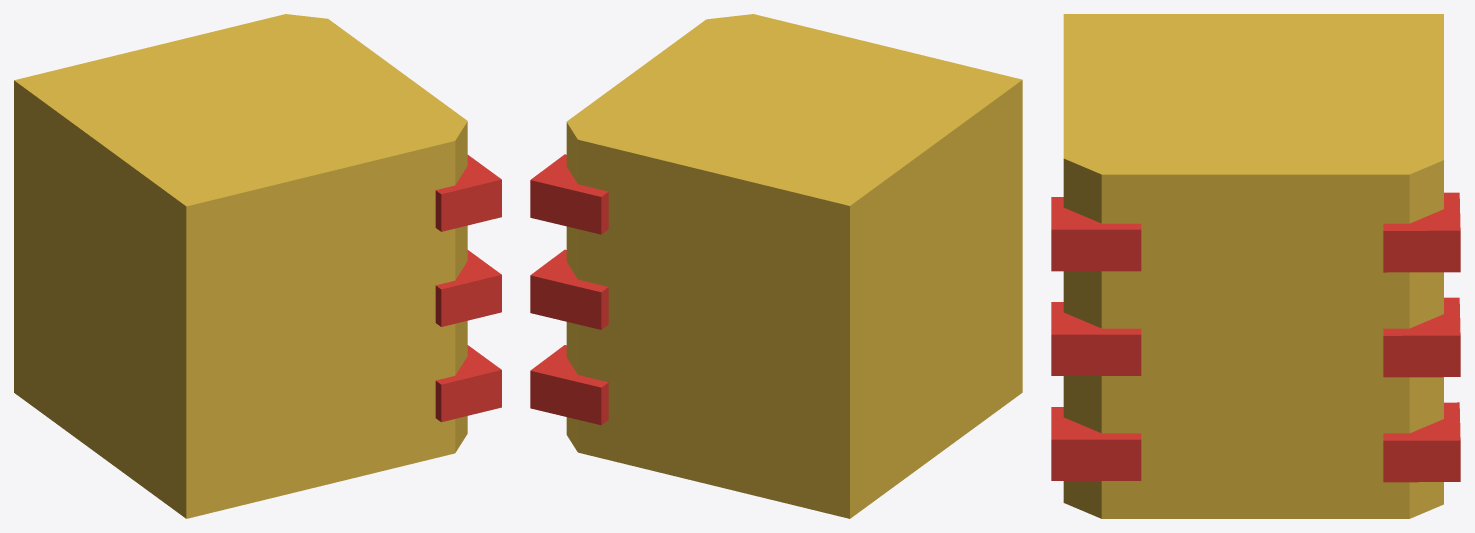
File: 1Left Connect yellowred.fbx
The picture shows the model from 3 angles, left to right: view 1: azimuth 30°, elevation 25°; view 2: azimuth 150°, elevation 25°; view 3: azimuth 270°, elevation 25°; orthographic projection. The views are drawn at different scales.
Visible parts, largest first — view 1: pCube6, pCube3, pCube4, pCube5; view 2: pCube6, pCube7, pCube8, pCube9; view 3: pCube6, pCube3, pCube5, pCube4, pCube8, pCube7, pCube9.
Part boxes in pixels (bbox=[...]): pCube6: bbox=[14, 14, 467, 518]; pCube3: bbox=[435, 155, 501, 231]; pCube4: bbox=[435, 250, 501, 326]; pCube5: bbox=[435, 345, 501, 422]; pCube6: bbox=[566, 14, 1022, 518]; pCube7: bbox=[530, 249, 608, 329]; pCube8: bbox=[530, 154, 608, 234]; pCube9: bbox=[530, 345, 608, 425]; pCube6: bbox=[1063, 14, 1443, 518]; pCube3: bbox=[1051, 197, 1141, 271]; pCube5: bbox=[1051, 407, 1141, 480]; pCube4: bbox=[1051, 302, 1141, 375]; pCube8: bbox=[1383, 192, 1460, 272]; pCube7: bbox=[1383, 297, 1460, 377]; pCube9: bbox=[1383, 402, 1460, 482].
Size of the model in its own units: 2.09 by 2 by 2.15.
